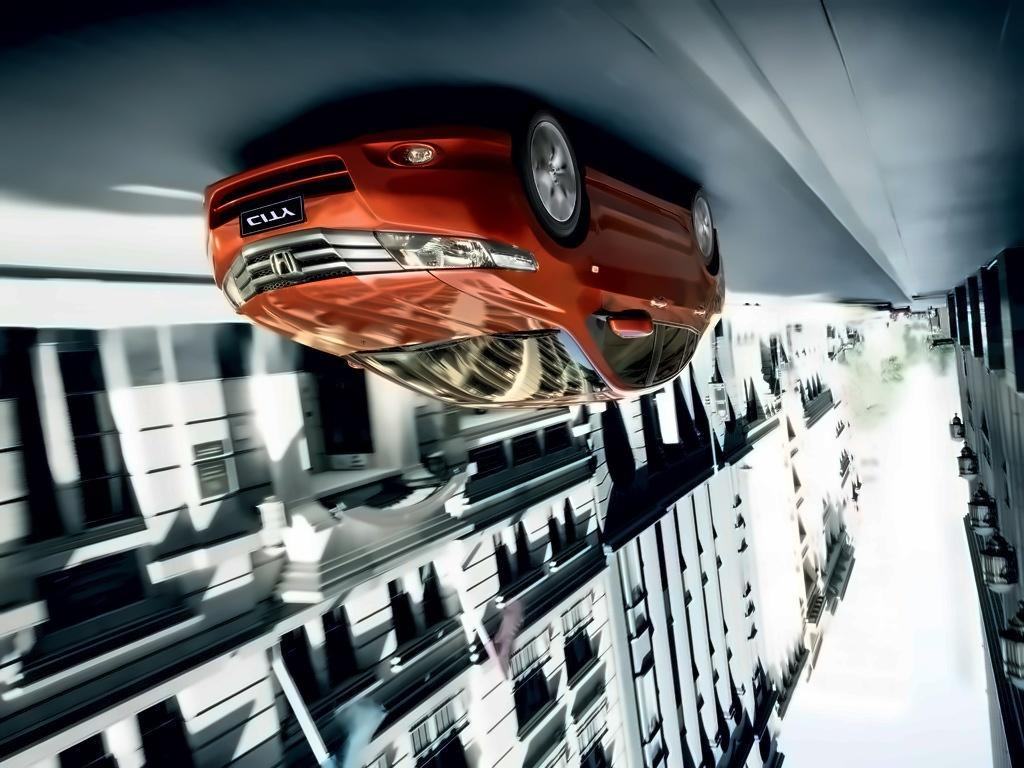Car hood: (231, 266, 558, 361)
Driver-s door - -F-R-: (600, 181, 672, 392)
Fender - -F-R-: (427, 169, 602, 330)
Front bumper: (198, 134, 551, 261)
Headlight - -L-: (214, 265, 253, 315)
Headlight - -R-: (370, 228, 541, 277)
Passenger-s door - -R-R-: (656, 203, 710, 392)
Side bumper - -R-: (578, 162, 701, 238)
Side mirror - -R-: (600, 306, 660, 343)
